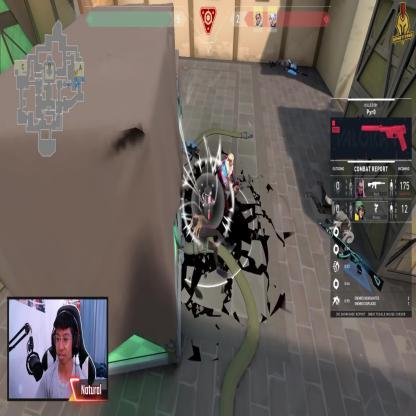enemy: (218, 153, 239, 211)
enemy_head: (227, 153, 234, 167)
